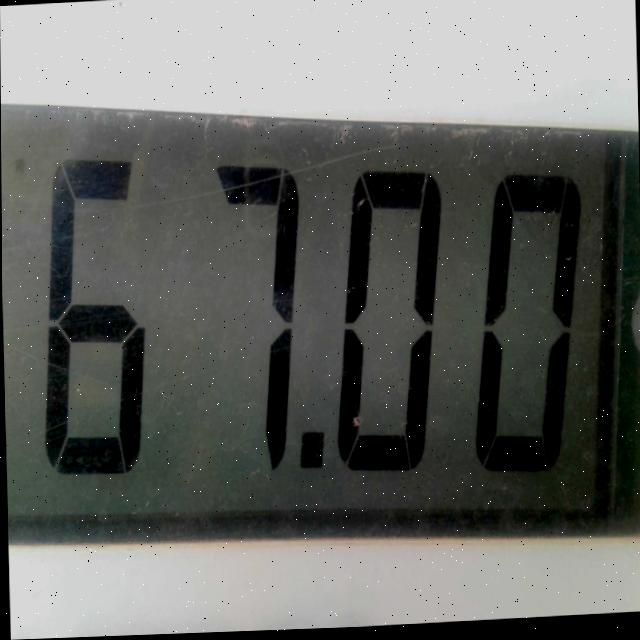.: (288, 405, 336, 503)
0: (464, 147, 597, 495), (323, 158, 450, 488)
6: (29, 146, 164, 515)
7: (198, 154, 305, 481)
